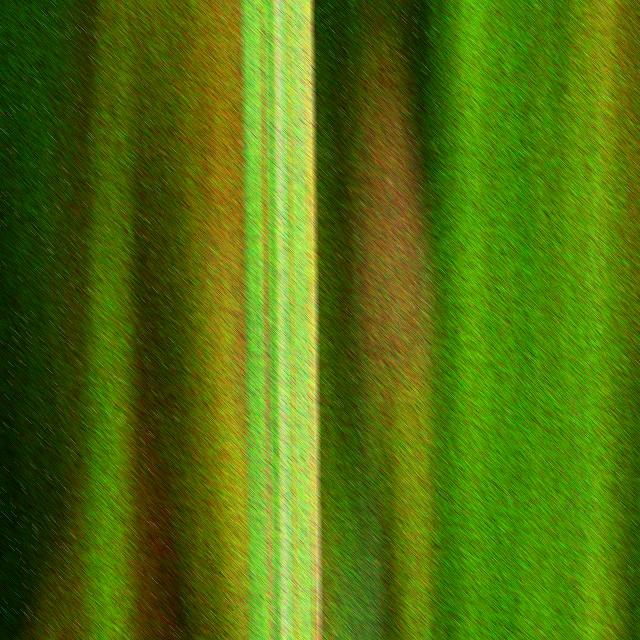BLS: (303, 0, 320, 640), (260, 0, 273, 640), (286, 0, 297, 640)
